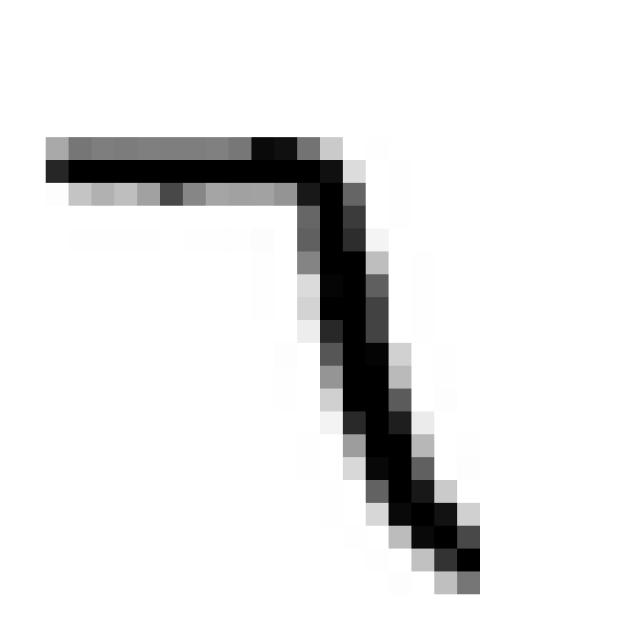6 -six-: (25, 112, 497, 605)
